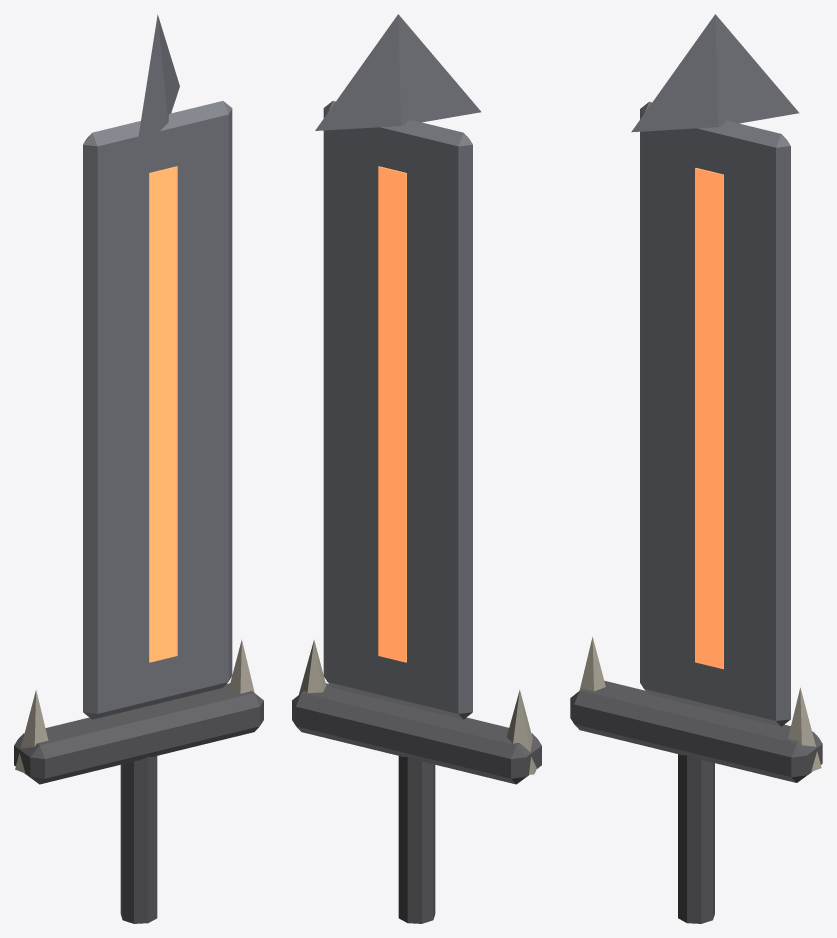
Rendered from w_boss.glb.
3 renders of one model, left to right at view 1: azimuth 30°, elevation 25°; view 2: azimuth 150°, elevation 25°; view 3: azimuth 330°, elevation 25°, orthographic.
Parts seen in each view (by area): view 1: w_boss; view 2: w_boss; view 3: w_boss.
Boxes of the visible parts, x1=… form: w_boss: x1=14, y1=14, x2=263, y2=923; w_boss: x1=292, y1=14, x2=541, y2=923; w_boss: x1=570, y1=14, x2=822, y2=923.
Bounding box in the file's own units: 0.5161 × 1.83 × 0.2263.
